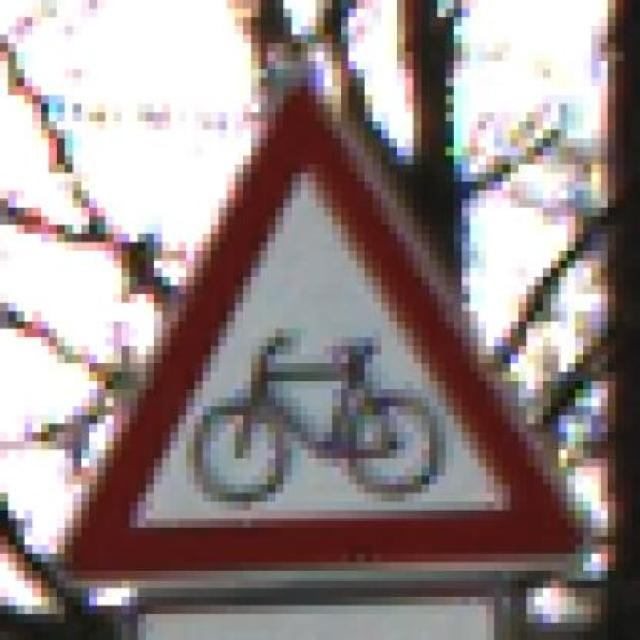CYCLE ROUTE AHEAD WARNING: (49, 69, 608, 597)
